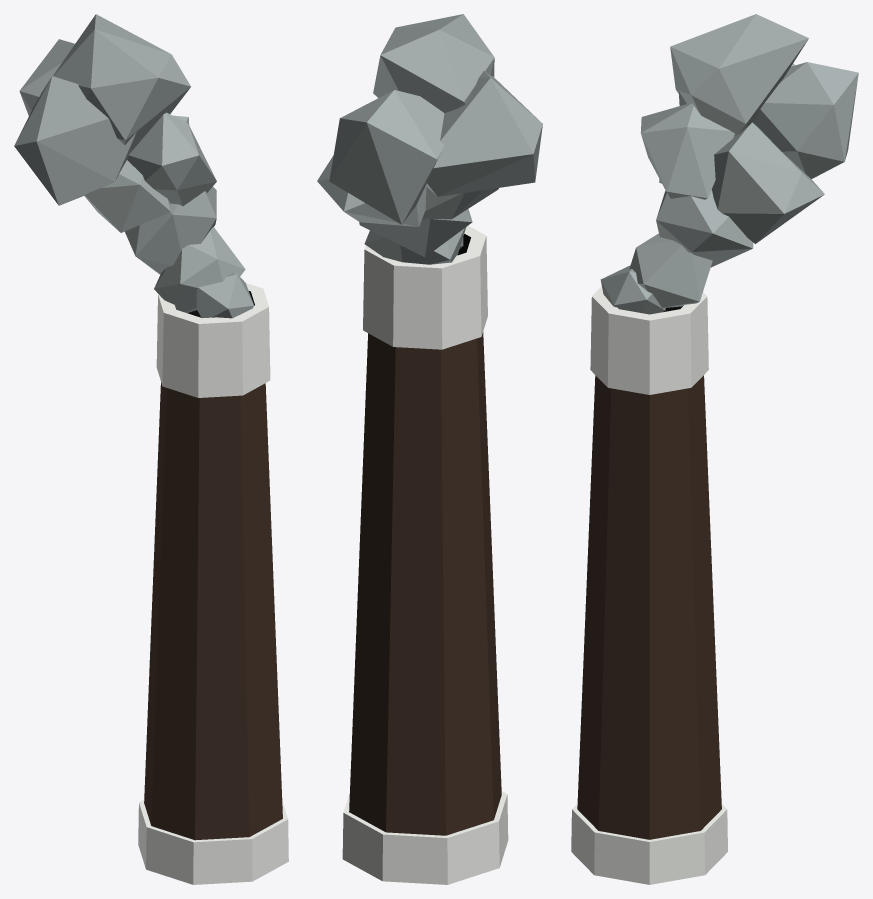
Rendered from low_poly_factory.glb.
The picture shows the model from 3 angles, left to right: view 1: azimuth 30°, elevation 25°; view 2: azimuth 150°, elevation 25°; view 3: azimuth 270°, elevation 25°; orthographic projection. The views are drawn at different scales.
Parts seen in each view (by area): view 1: Factory_0; view 2: Factory_0; view 3: Factory_0.
Part boxes in pixels (<box>): Factory_0: <box>14,14,288,884</box>; Factory_0: <box>317,14,542,884</box>; Factory_0: <box>571,14,858,884</box>.
Size of the model in its own units: 2.61 by 9.21 by 2.98.
Materials: 1 (1 with a texture image).
